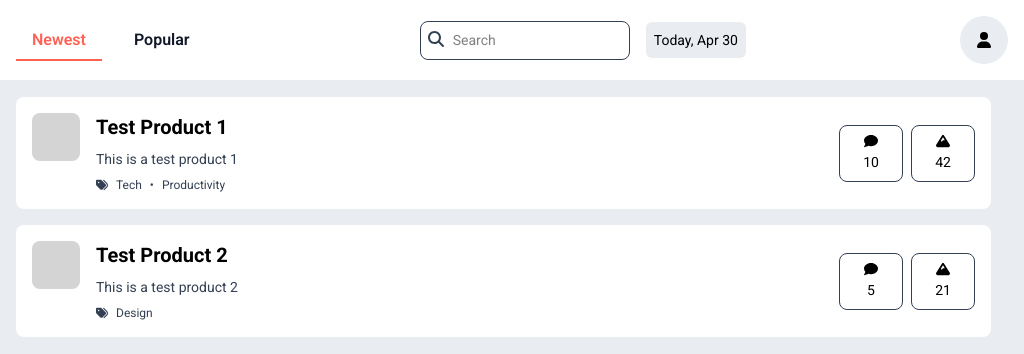
Test case: Posts › filters posts by search term
Type "Test Product 1" into the field with placeholder "Search" at (525, 40), box [420,20,630,60]
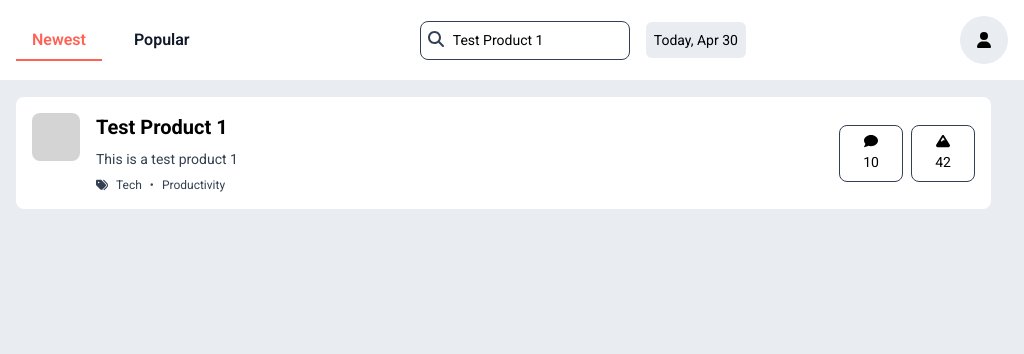
Expected: the heading "Test Product 1" is shown, [96,113,228,141]
Now the heading "Test Product 2" is gone
